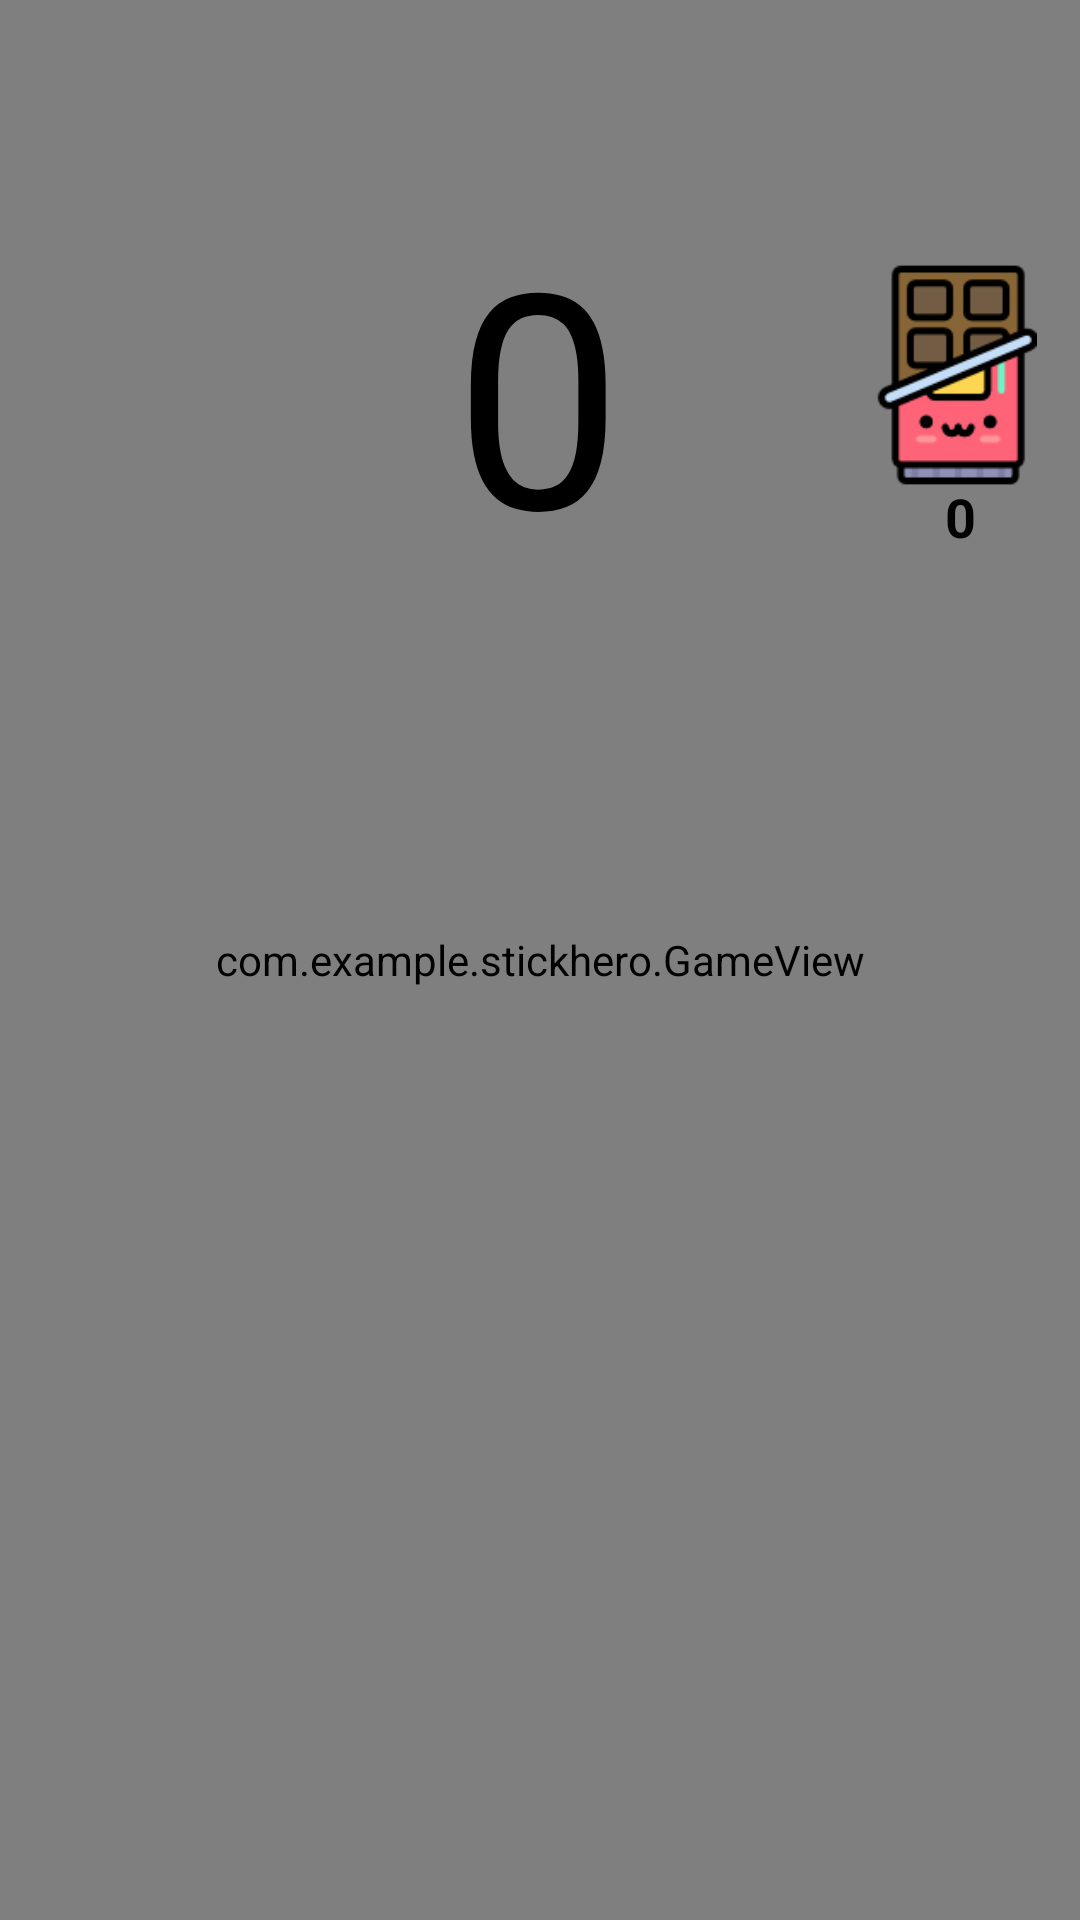

Screen size 1080px×1920px. Icon name, then its box in pixels as (left=x1, top=y1, right=x2, bottom=y2):
chocolate: (left=877, top=265, right=1037, bottom=485)
